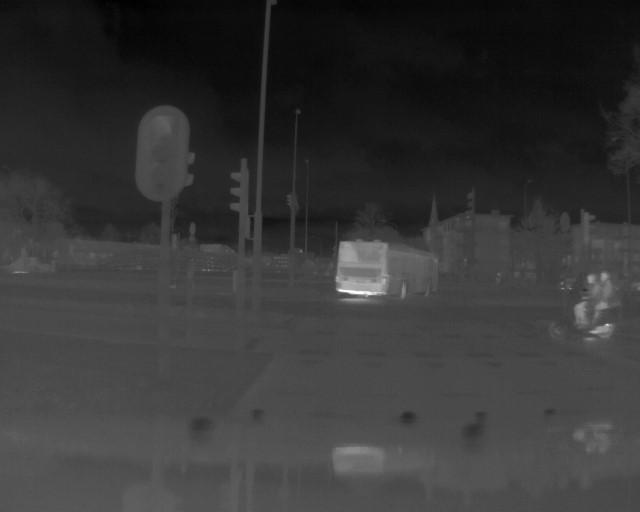car: (333, 240, 443, 298)
person: (576, 265, 599, 339), (595, 267, 616, 335)
